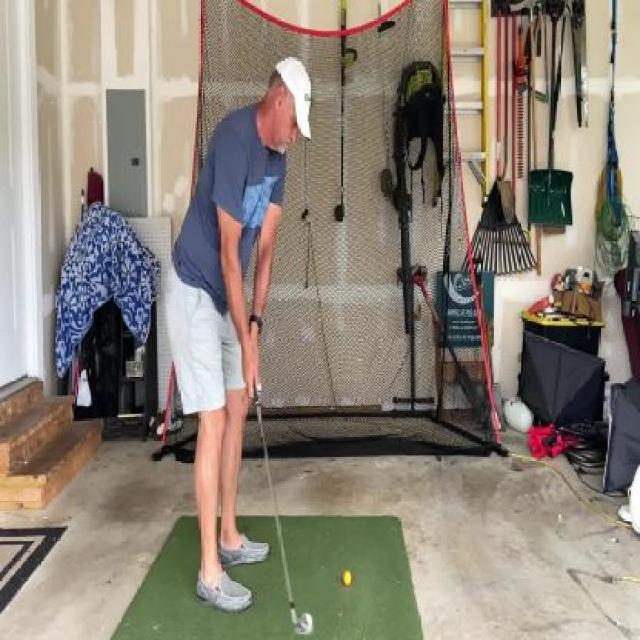club head: (289, 600, 314, 637)
